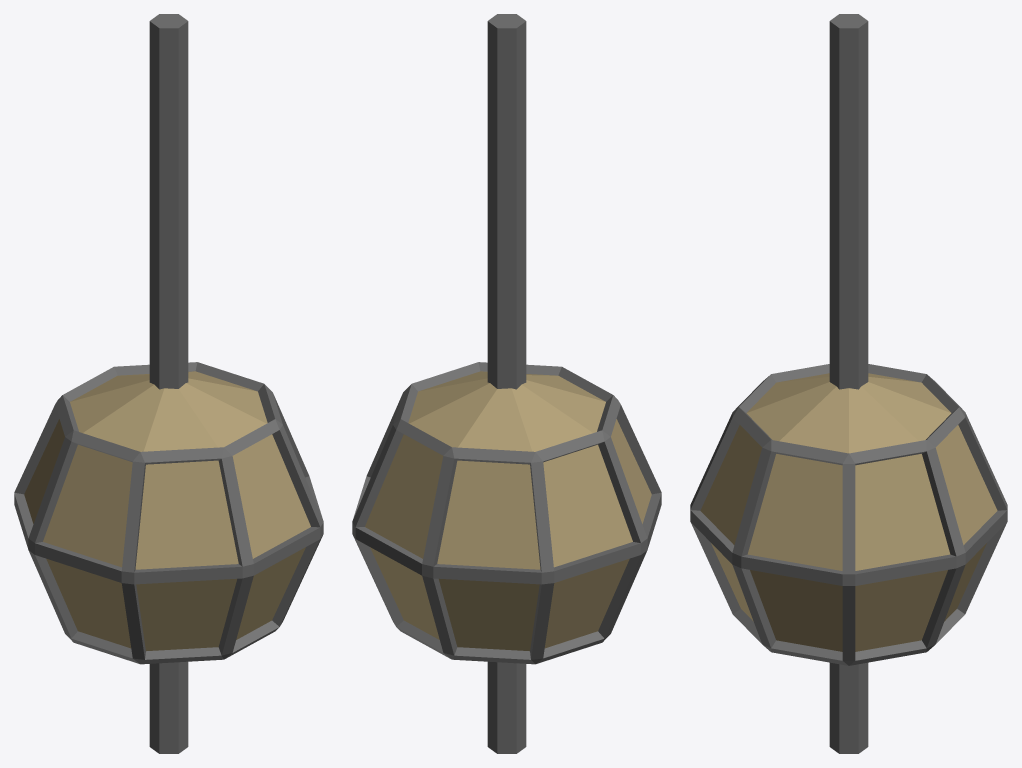
The model's file is LightOrb.fbx.
The picture shows the model from 3 angles, left to right: view 1: azimuth 30°, elevation 25°; view 2: azimuth 150°, elevation 25°; view 3: azimuth 270°, elevation 25°; orthographic projection.
Visible parts, largest first — view 1: LightOrb; view 2: LightOrb; view 3: LightOrb.
Part boxes in pixels (<box>): LightOrb: <box>14,14,323,753</box>; LightOrb: <box>352,14,661,753</box>; LightOrb: <box>690,14,1007,753</box>.
Size of the model in its own units: 24.3 by 61.37 by 24.3.
